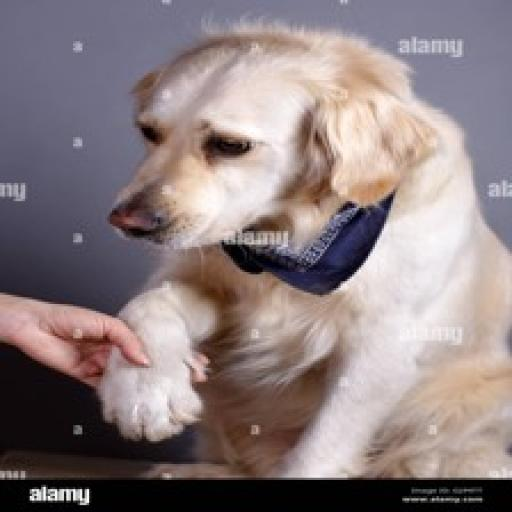dog: (89, 21, 512, 482)
